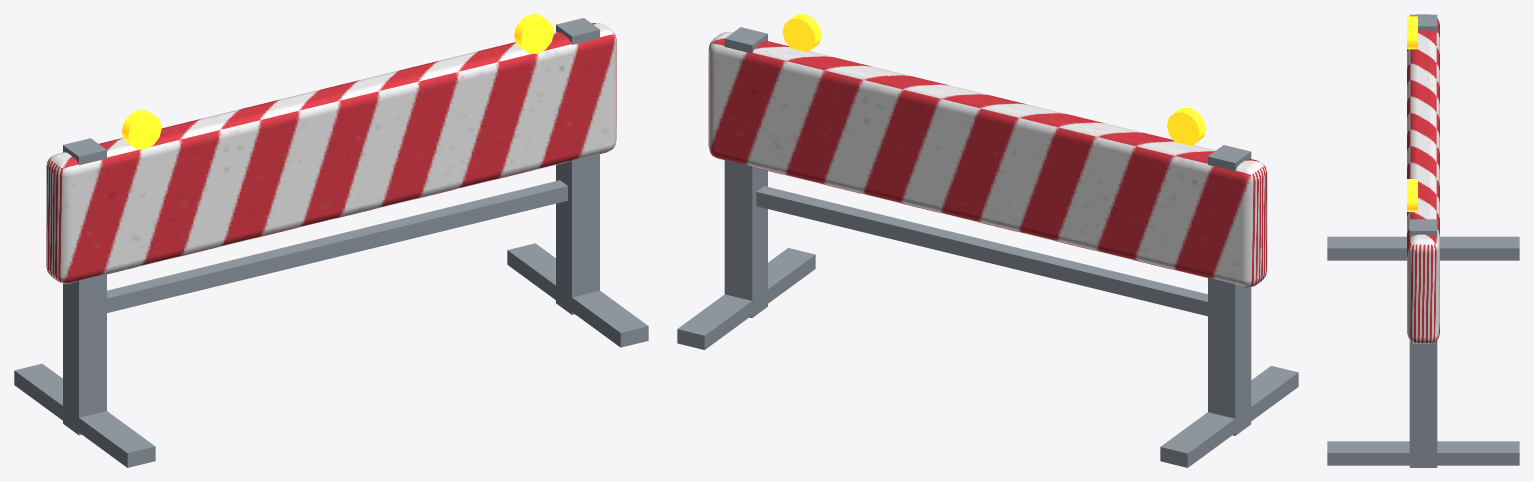
File: barrier_low.glb
3 renders of one model, left to right at view 1: azimuth 30°, elevation 25°; view 2: azimuth 150°, elevation 25°; view 3: azimuth 270°, elevation 25°, orthographic. The views are drawn at different scales.
Visible parts, largest first — view 1: BarrierLow_BarrierPanel_red, BarrierLow_BarrierPost, BarrierLow_BarrierReflector; view 2: BarrierLow_BarrierPanel_red, BarrierLow_BarrierPost, BarrierLow_BarrierReflector; view 3: BarrierLow_BarrierPost, BarrierLow_BarrierPanel_red, BarrierLow_BarrierReflector.
Boxes of the visible parts, left/top/right/bottom form: BarrierLow_BarrierPanel_red: left=46, top=23, right=616, bottom=283; BarrierLow_BarrierPost: left=14, top=18, right=648, bottom=467; BarrierLow_BarrierReflector: left=122, top=14, right=553, bottom=149; BarrierLow_BarrierPanel_red: left=708, top=32, right=1267, bottom=287; BarrierLow_BarrierPost: left=677, top=27, right=1298, bottom=467; BarrierLow_BarrierReflector: left=782, top=14, right=1205, bottom=145; BarrierLow_BarrierPost: left=1327, top=14, right=1519, bottom=467; BarrierLow_BarrierPanel_red: left=1407, top=14, right=1439, bottom=343; BarrierLow_BarrierReflector: left=1407, top=16, right=1417, bottom=211.
Bounding box in the file's own units: 2 × 1.04 × 0.7.
3 materials, 1 textured.
